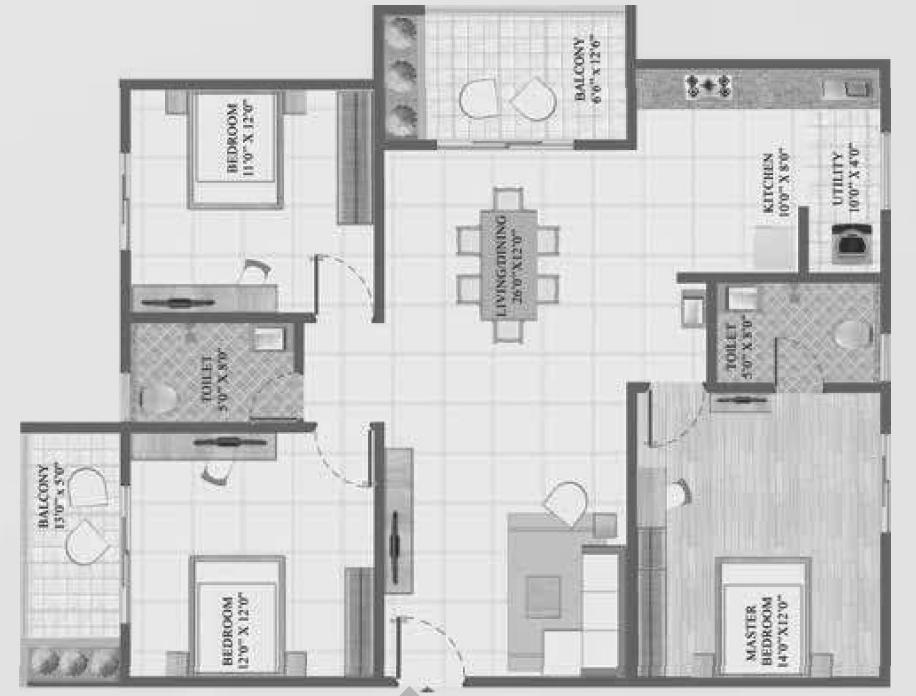Balcony: (378, 11, 633, 145), (23, 427, 127, 680)
Bed: (191, 86, 280, 210), (194, 559, 282, 674), (720, 560, 807, 675)
Bedroom: (636, 387, 884, 678), (127, 426, 379, 680), (125, 86, 377, 315)
Dining Room: (379, 147, 702, 383)
Dining table: (454, 188, 569, 345)
Kitchen: (633, 67, 802, 278)
Living Room: (379, 379, 633, 680)
Sofa: (585, 550, 621, 666), (542, 632, 622, 675)
Wardrobe: (632, 528, 667, 678), (334, 89, 372, 225), (345, 567, 376, 677)
commode: (833, 318, 876, 354), (136, 387, 184, 414)
door: (112, 479, 144, 627), (398, 613, 467, 678), (311, 254, 378, 319), (650, 385, 710, 449), (313, 429, 370, 496), (773, 335, 828, 399), (243, 369, 301, 419), (435, 135, 573, 155)
fridge: (752, 228, 795, 272)
kitchen-slab: (634, 68, 881, 110)
sink: (820, 81, 875, 104), (252, 325, 288, 351), (729, 285, 758, 310), (682, 297, 701, 326)
stove: (685, 75, 735, 100)
toilet: (125, 317, 301, 425), (713, 280, 885, 386)
tv: (177, 432, 271, 460), (136, 291, 237, 314), (384, 492, 407, 588), (710, 389, 769, 415)
utility: (801, 69, 881, 275)
washing-machine: (829, 222, 874, 265)
